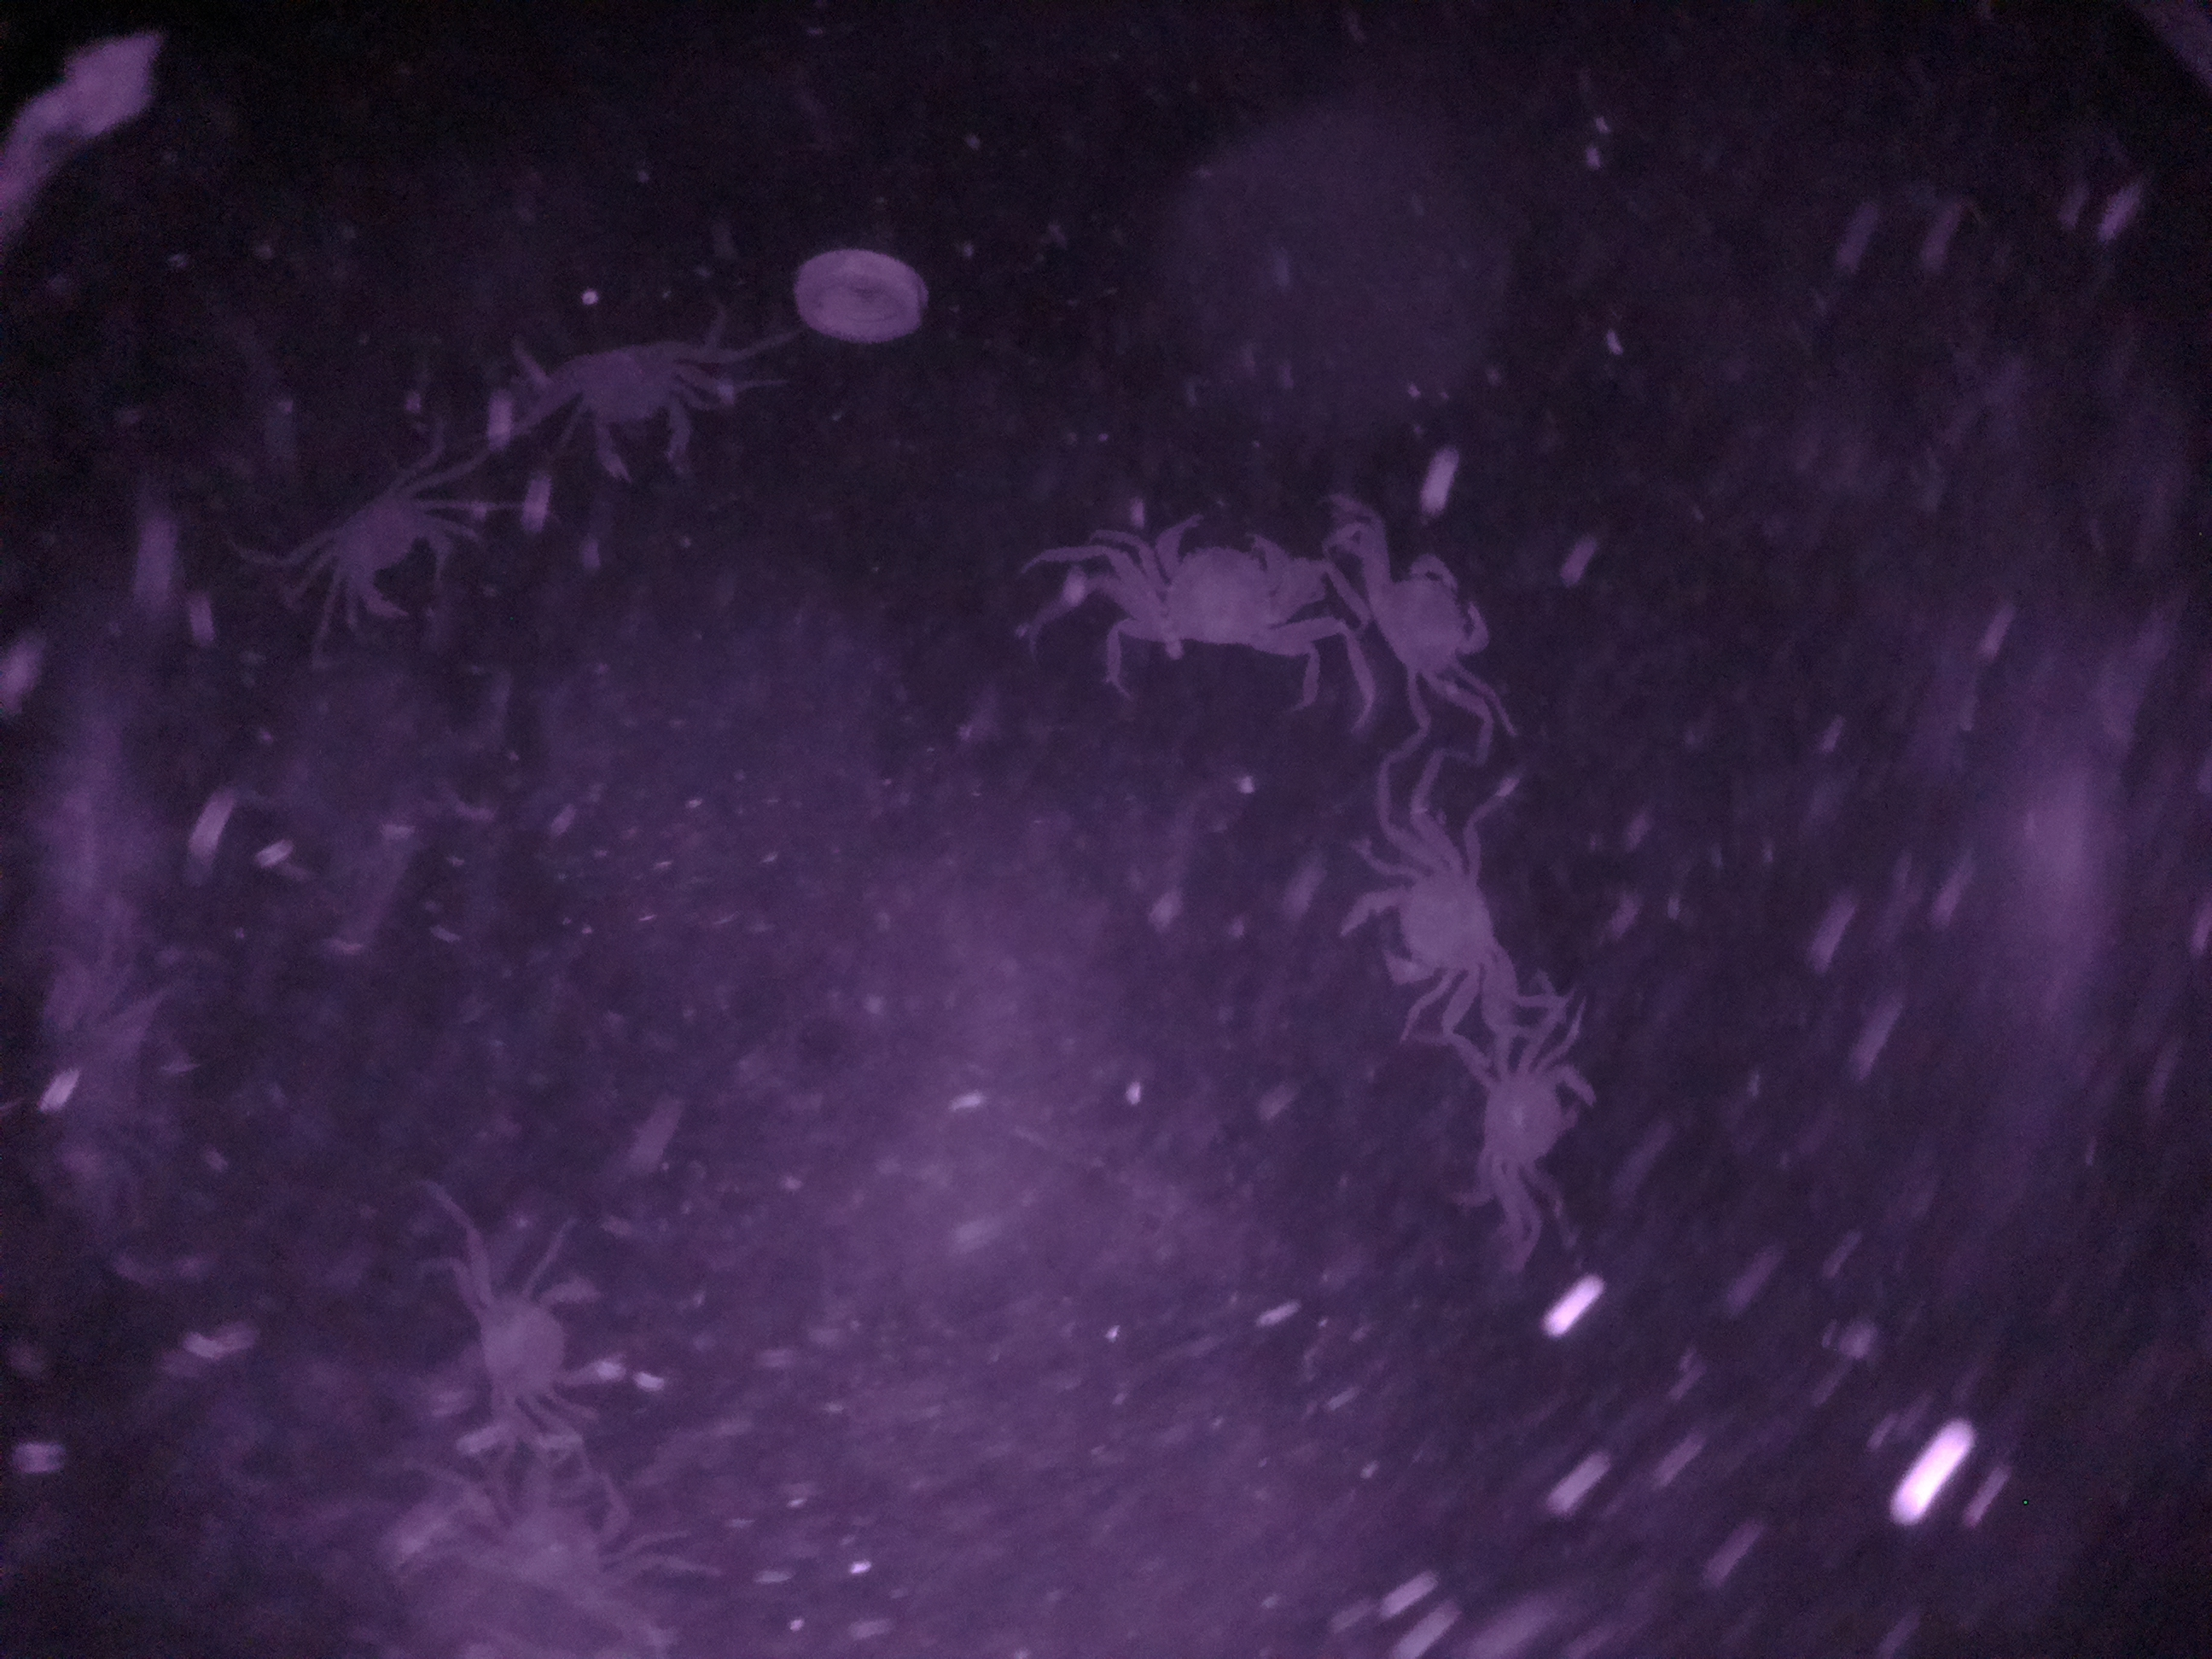Crab: (1329, 828, 1522, 1012), (514, 324, 732, 484), (1109, 514, 1313, 680), (301, 464, 474, 645), (1346, 538, 1508, 711), (1458, 1040, 1595, 1225)
